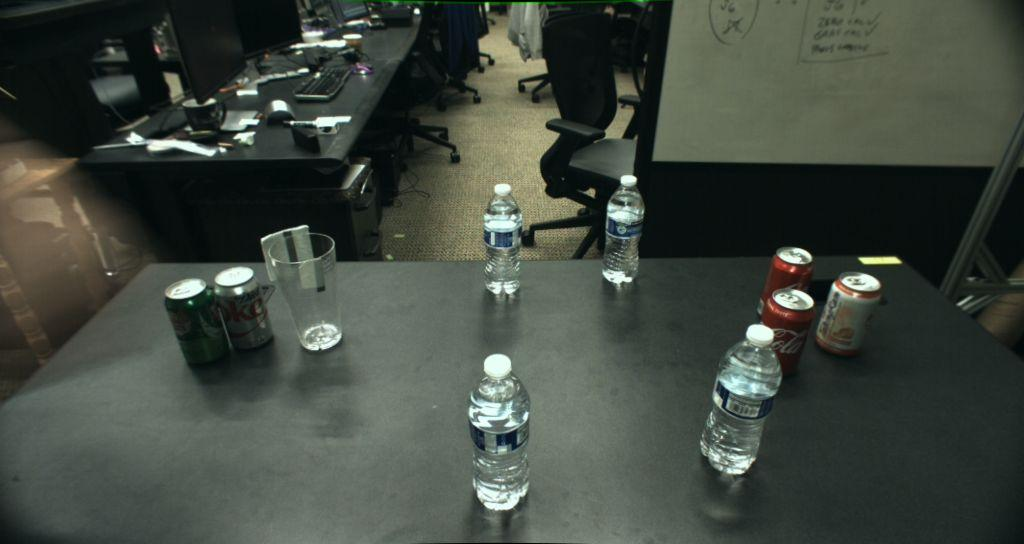can_diet_coke: (212, 266, 274, 351)
can_ginger_ale: (164, 278, 231, 367)
can_talking_rain_peach_nectarine: (813, 270, 882, 355)
water_bottle: (700, 324, 782, 475), (467, 353, 531, 510), (602, 175, 644, 283), (484, 183, 522, 294)
